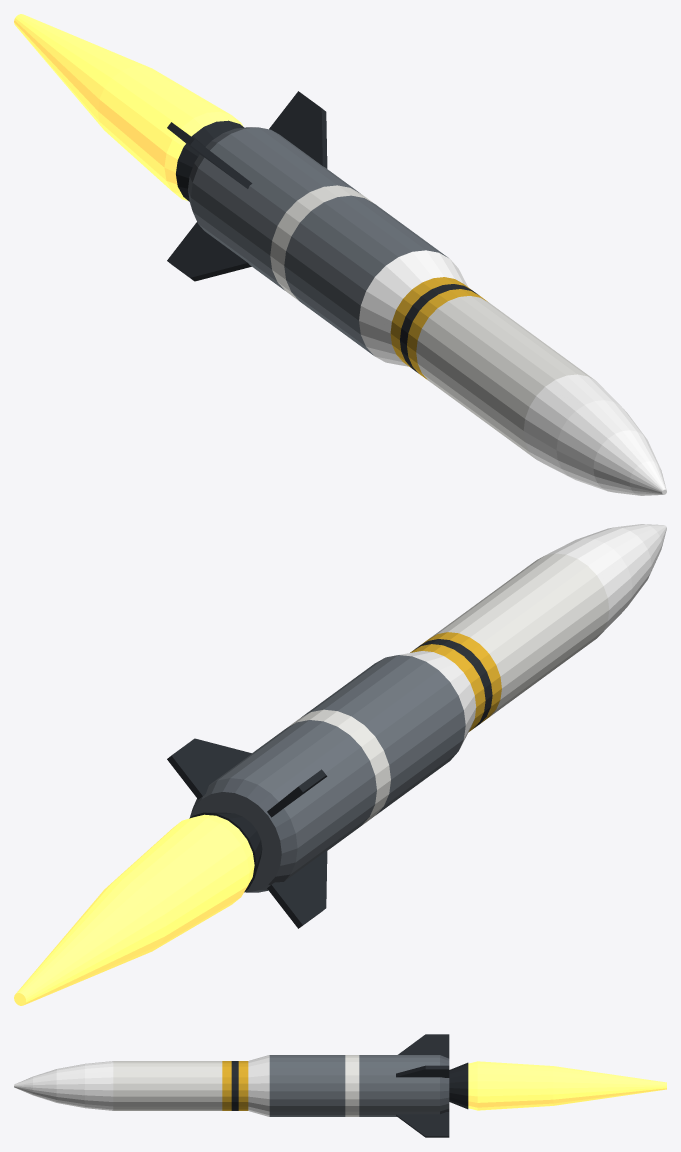
File: hydrogen_bomb.glb
3 renders of one model, top to bottom at view 1: azimuth 30°, elevation 25°; view 2: azimuth 150°, elevation 25°; view 3: azimuth 270°, elevation 25°, orthographic. The views are drawn at different scales.
Visible parts, largest first — view 1: HydrogenBomb; view 2: HydrogenBomb; view 3: HydrogenBomb.
Part boxes in pixels (x1,y1,x2,y2): HydrogenBomb: (14, 14, 666, 495); HydrogenBomb: (14, 524, 666, 1005); HydrogenBomb: (14, 1034, 666, 1137).
Bounding box in the file's own units: 0.1683 × 0.1683 × 1.38.
